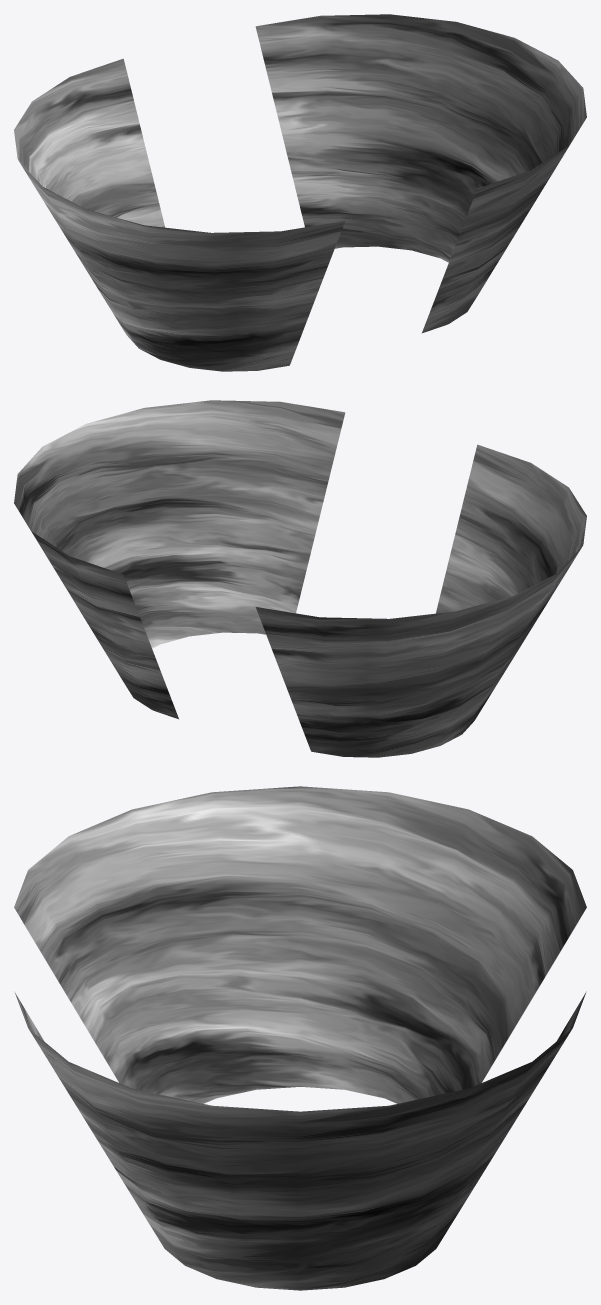
File: Devided.fbx
3 views of the same model, one above another, from view 1: azimuth 30°, elevation 25°; view 2: azimuth 150°, elevation 25°; view 3: azimuth 270°, elevation 25° (orthographic). The views are drawn at different scales.
Visible parts, largest first — view 1: polySurface1, polySurface2; view 2: polySurface1, polySurface2; view 3: polySurface2, polySurface1.
Part boxes in pixels (box(x1,y1,x2,y2)): polySurface1: box(255, 14, 586, 333); polySurface2: box(14, 58, 345, 371); polySurface1: box(14, 400, 345, 719); polySurface2: box(255, 444, 586, 757); polySurface2: box(14, 786, 586, 1103); polySurface1: box(14, 991, 586, 1290).
Size of the model in its own units: 2208 by 759 by 1644.
